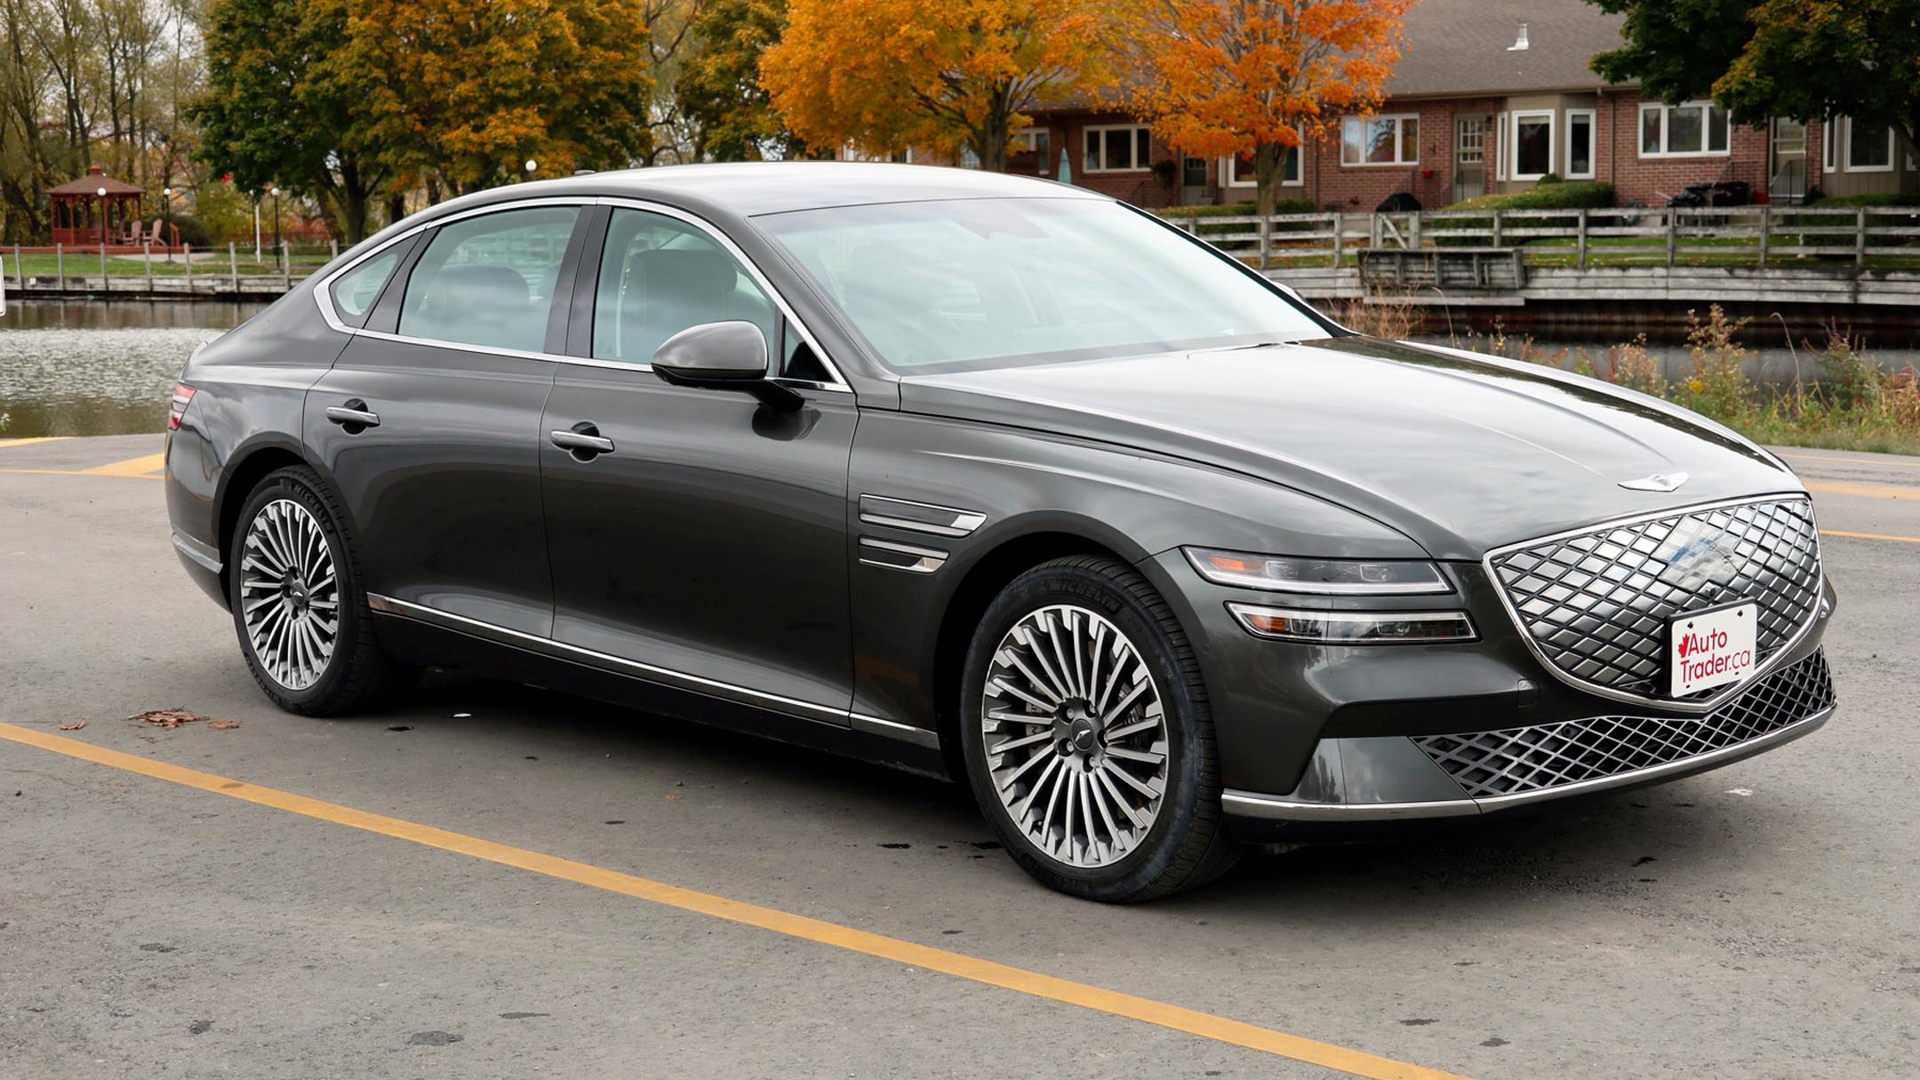car: (160, 154, 1855, 910)
